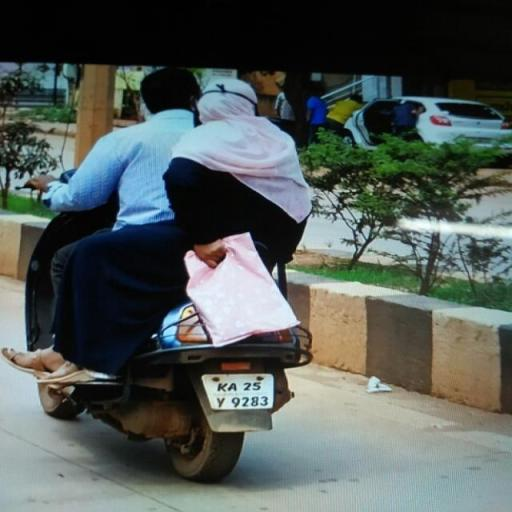bike: (11, 61, 326, 486)
numberplate: (204, 372, 278, 413)
withouthelmet: (200, 81, 256, 119), (144, 70, 198, 108)
